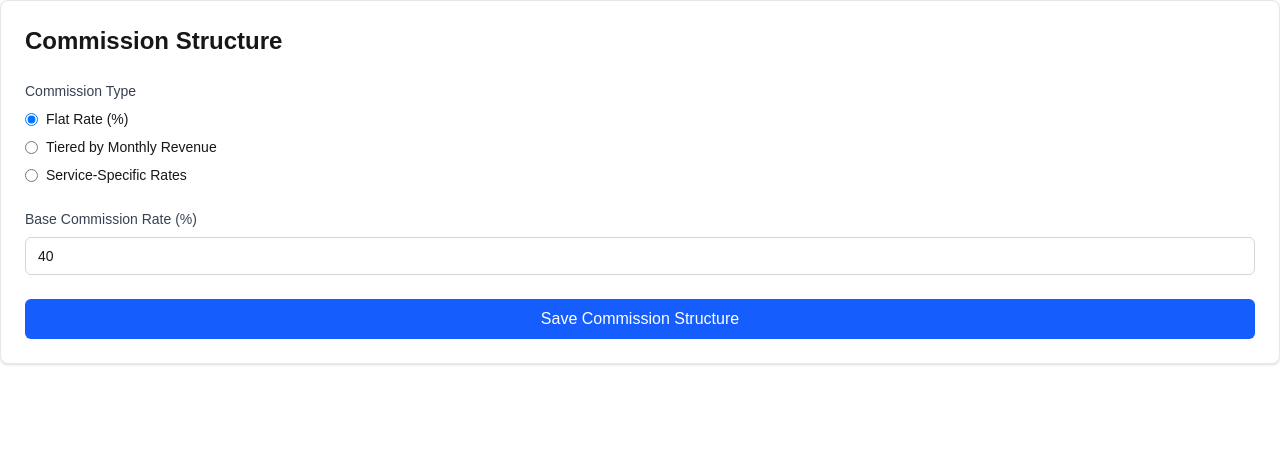
Commission Components › CommissionRateConfig › should save commission structure
This screenshot has width=1280, height=450.
Click the button "Save Commission Structure": [640, 319] box [25,299,1255,339]
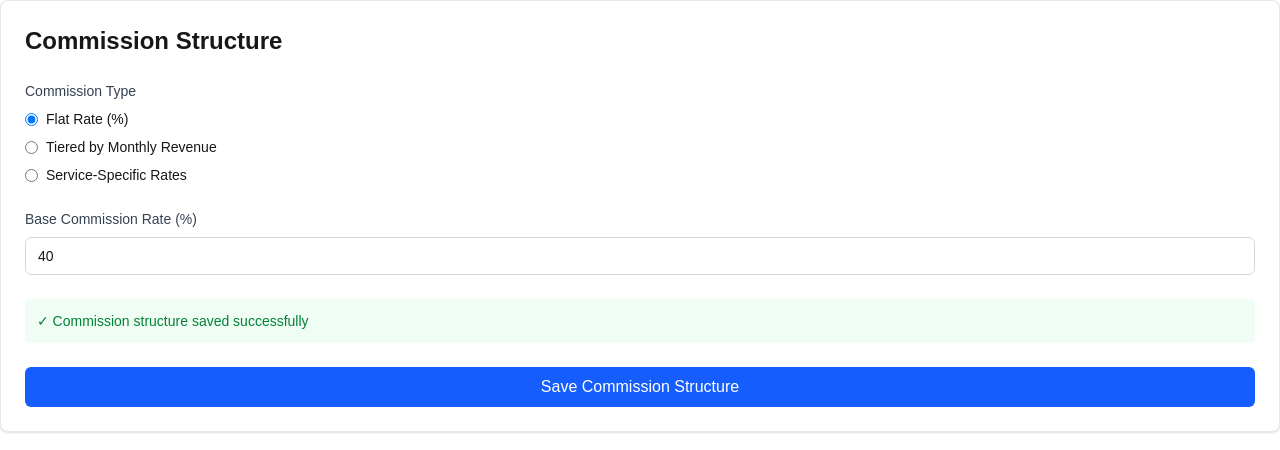
Expected: the text "✓ Commission structure saved successfully" is shown, [25,299,1255,343]
